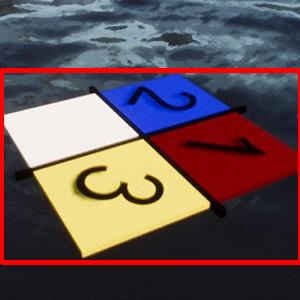nfpa: (1, 70, 300, 262)
